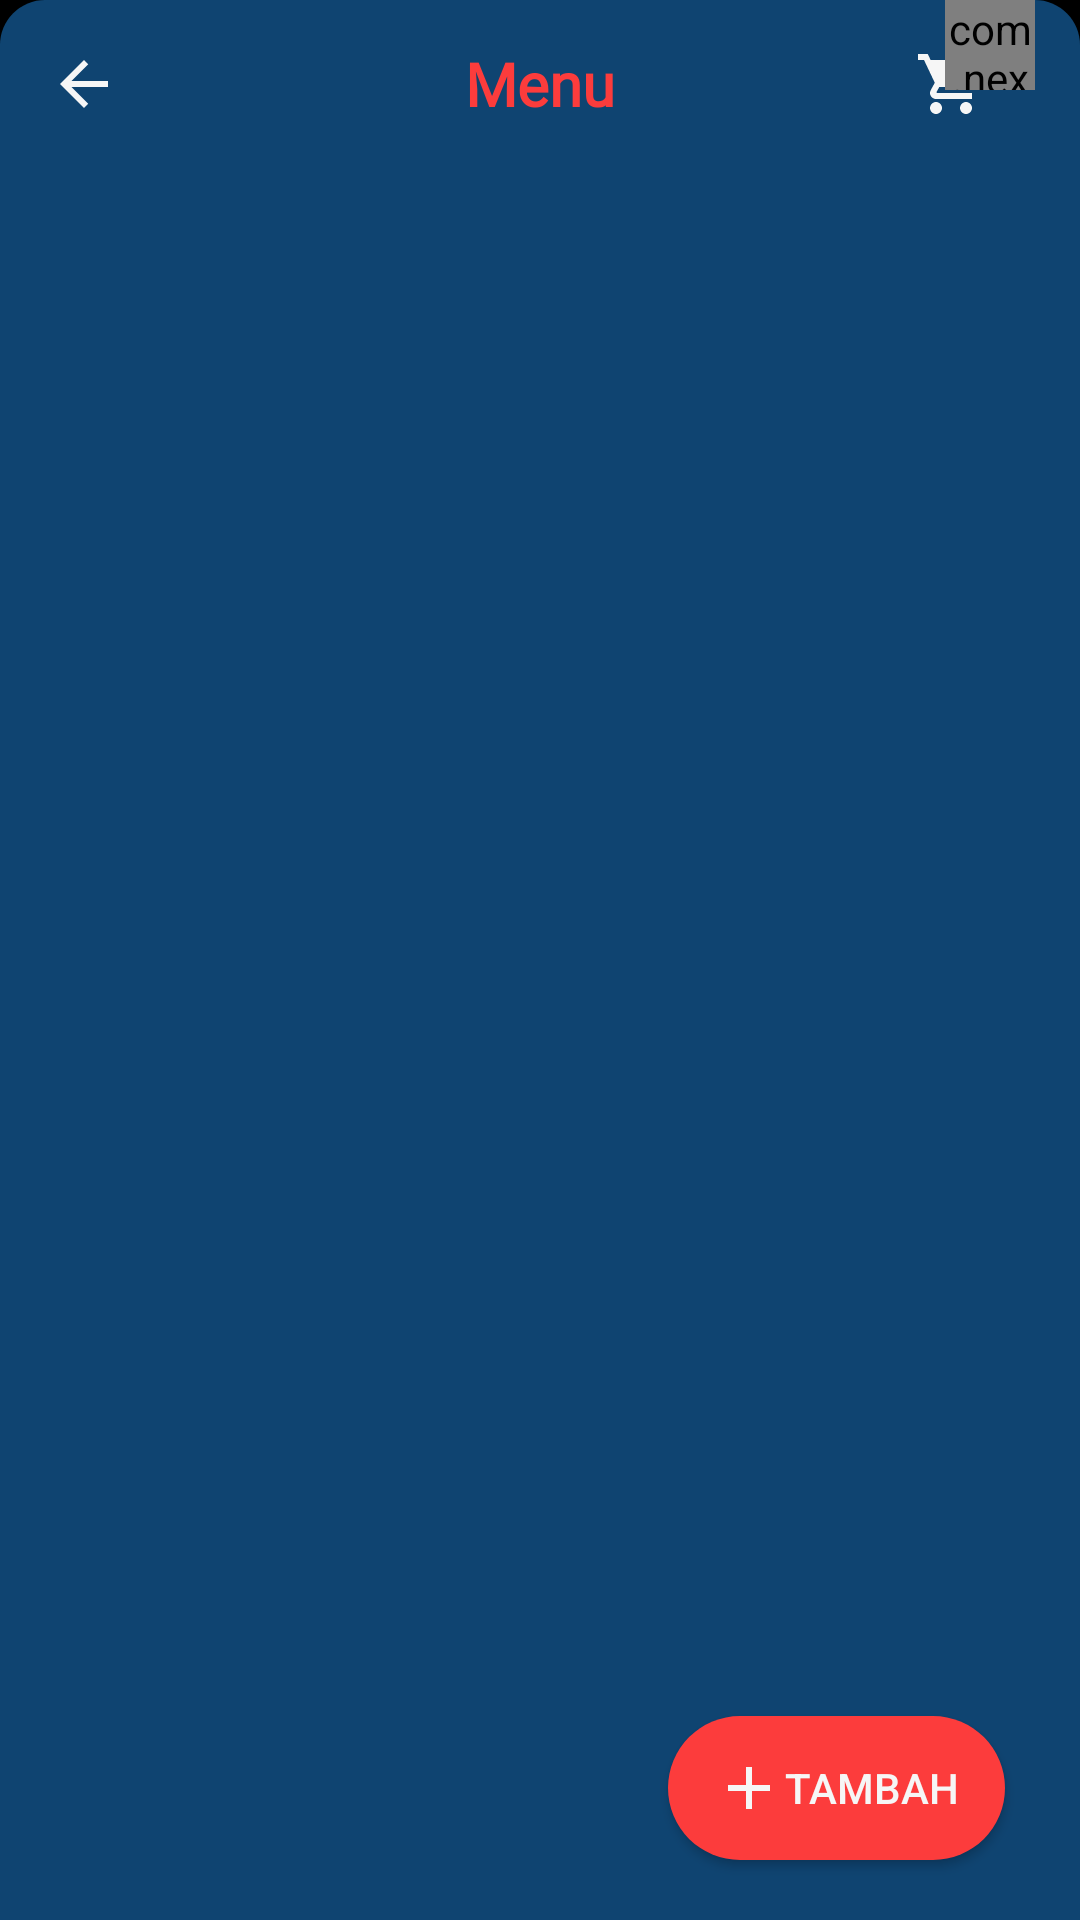

Icons on this 1080x1920 Android screen, each with the point to tap as [x,y]:
kembali: [84,84]
